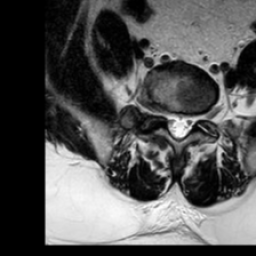CCS_normal: (175, 101, 184, 147)
LFS_stenosis: (194, 101, 202, 129)
LLS_normal: (184, 103, 194, 138)
RFS_normal: (156, 95, 165, 125)
RLS_normal: (165, 99, 175, 142)
